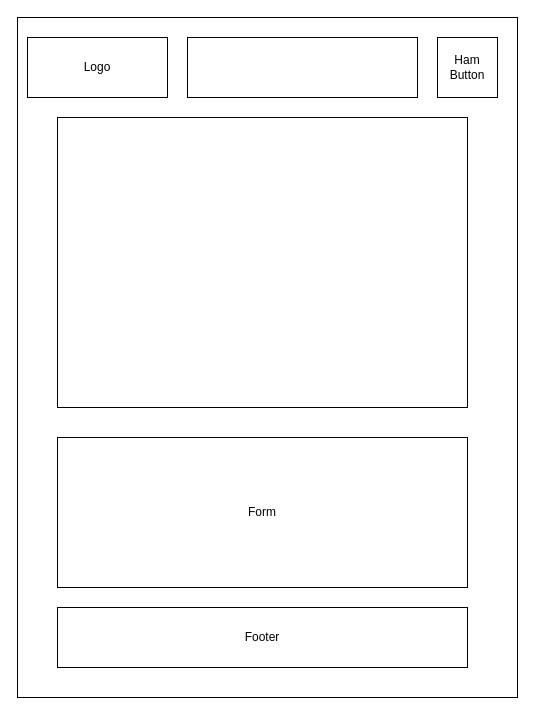
The diagram is 535 pixels wide and 715 high, and some of its shapes have lost their labels. Each missing label, with the centre of its shape:
Content: (x=262, y=262)
Disc Golf Fun: (x=302, y=67)
